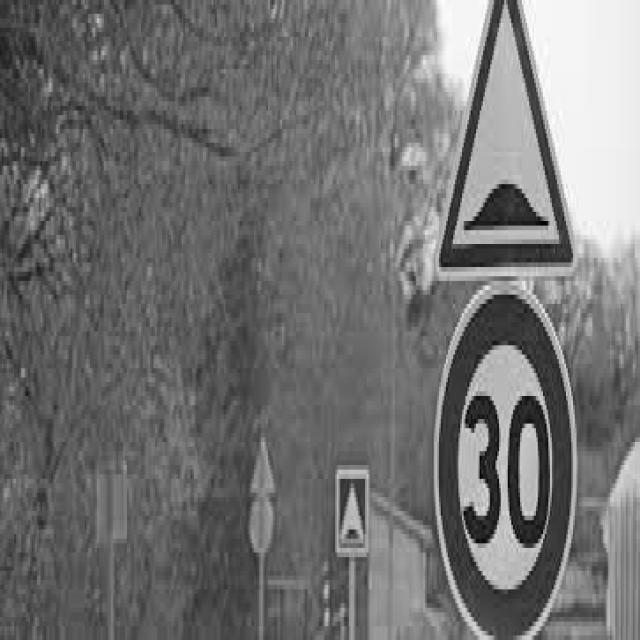danger: (436, 0, 578, 275)
speed_30: (433, 282, 578, 640)
